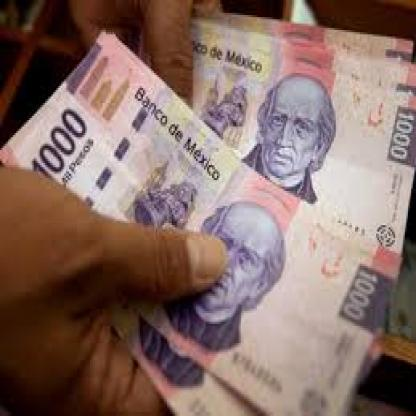billete: (0, 32, 400, 414), (191, 6, 413, 251)
